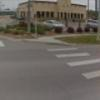cars: (43, 20, 66, 30)
